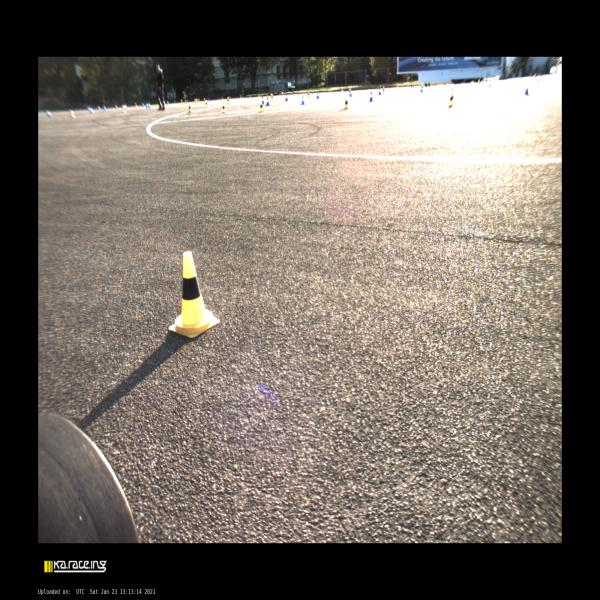blue_cone: (524, 85, 530, 96), (301, 95, 305, 104), (261, 95, 265, 104), (451, 87, 454, 99), (378, 87, 382, 95), (266, 97, 270, 105), (370, 92, 373, 102), (284, 94, 288, 101), (47, 110, 51, 117), (90, 108, 94, 114), (420, 84, 423, 92), (316, 91, 319, 98), (349, 89, 352, 96), (97, 105, 101, 110), (124, 104, 127, 110), (148, 102, 151, 108), (103, 105, 106, 110), (115, 104, 118, 108), (146, 102, 148, 108), (538, 77, 540, 83), (488, 82, 490, 87), (142, 103, 144, 107), (167, 100, 169, 104), (249, 94, 251, 98), (298, 91, 300, 95), (444, 81, 446, 85), (174, 100, 176, 103), (207, 98, 209, 101), (187, 100, 189, 102), (312, 90, 313, 94), (230, 96, 231, 99), (292, 92, 293, 95), (413, 84, 414, 87), (378, 86, 378, 89)
yellow_cone: (169, 251, 220, 338), (449, 93, 454, 108), (344, 97, 349, 109), (259, 102, 264, 112), (70, 110, 76, 118), (222, 104, 226, 114), (188, 104, 192, 113), (122, 105, 126, 112), (270, 93, 274, 100), (205, 99, 208, 108), (134, 102, 138, 108), (307, 91, 310, 98), (348, 88, 351, 95), (228, 96, 230, 104), (195, 98, 197, 105), (382, 86, 384, 93), (181, 100, 183, 106), (158, 101, 160, 107), (281, 92, 283, 97), (341, 87, 343, 92), (270, 93, 272, 97), (204, 97, 205, 104), (198, 98, 199, 104), (185, 99, 186, 104), (222, 96, 223, 101), (240, 95, 241, 99), (258, 94, 259, 98), (267, 93, 268, 97), (380, 85, 381, 89)
